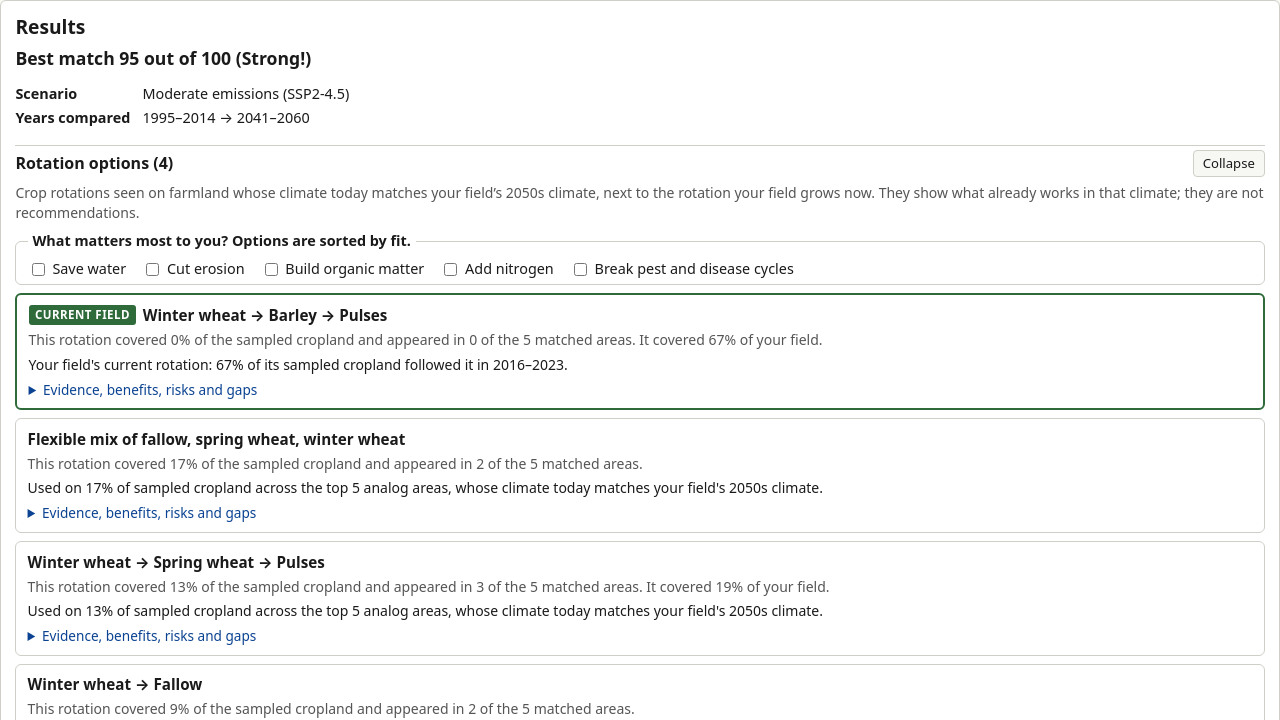
M8 panels on a live result › sorts rotation options by the farmer’s priorities, current rotation first
Step 1. Click the checkbox labelled "Add nitrogen" → (451, 269), box left=444, top=263, right=457, bottom=276
(page scrolled)
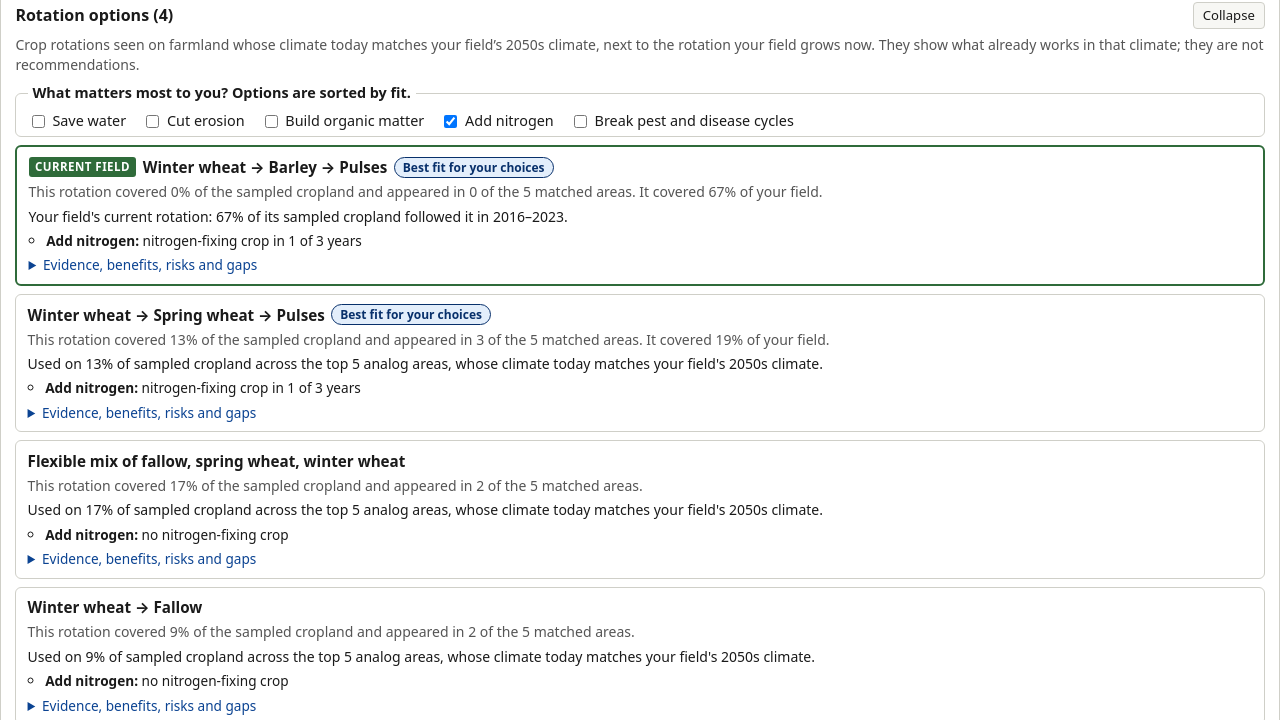
Expected: the heading that starts with "Current Field" shows "Winter wheat → Barley → Pulses", left=143, top=157, right=387, bottom=177
Expected: the text "Best fit for your choices" is shown 2 times, left=394, top=157, right=554, bottom=178; left=331, top=304, right=491, bottom=325
